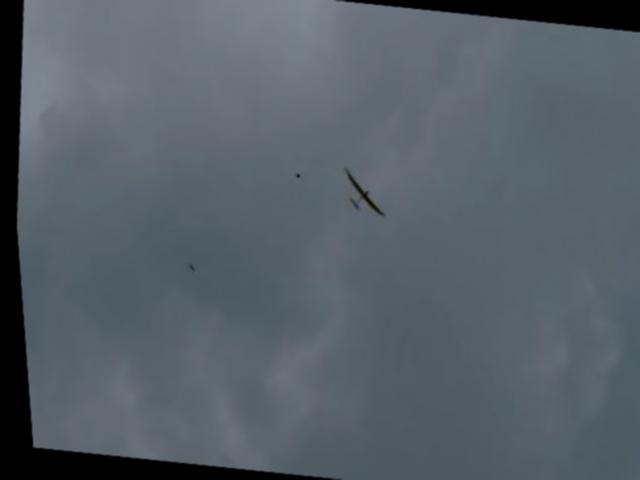uav: (336, 167, 387, 218)
